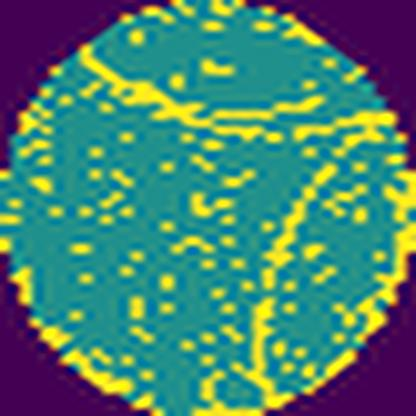Scratch: (227, 129, 387, 405), (77, 44, 398, 148)
